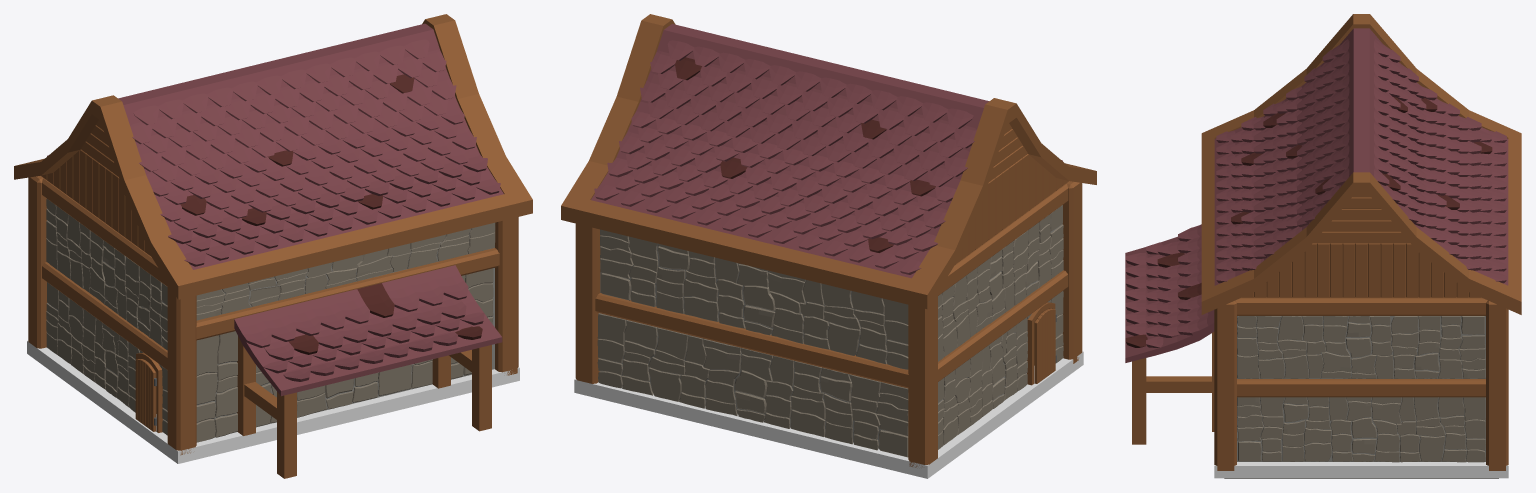
The model's file is House.fbx.
The picture shows the model from 3 angles, left to right: view 1: azimuth 30°, elevation 25°; view 2: azimuth 150°, elevation 25°; view 3: azimuth 270°, elevation 25°; orthographic projection. The views are drawn at different scales.
Visible parts, largest first — view 1: Roof.002, Roof.001, Cube.001, Roof.003, Cube.002, Plane.007, Plane, Plane.004, Plane.009, Plane.001, Roof, Plane.017 (+2 smaller); view 2: Roof.002, Roof.001, Cube.001, Plane.007, Plane.008, Plane, Plane.004, Plane.001, Roof, Plane.003, Plane.017, Plane.016; view 3: Roof.002, Roof.001, Cube.001, Plane.006, Plane.005, Roof, Roof.003, Plane, Cube.002, Plane.003.
Part boxes in pixels (x1,y1,x2,y2): Roof.002: [47, 39, 500, 266]; Roof.001: [14, 14, 532, 299]; Cube.001: [28, 176, 518, 455]; Roof.003: [234, 265, 484, 381]; Cube.002: [234, 289, 502, 478]; Plane.007: [196, 268, 493, 442]; Plane: [27, 340, 519, 463]; Plane.004: [46, 199, 167, 350]; Plane.009: [196, 222, 495, 320]; Plane.001: [46, 282, 167, 435]; Roof: [41, 120, 151, 256]; Plane.017: [135, 359, 156, 431]; Roof.002: [594, 40, 1062, 274]; Roof.001: [561, 14, 1096, 309]; Cube.001: [575, 181, 1082, 467]; Plane.007: [597, 313, 908, 457]; Plane.008: [600, 229, 908, 369]; Plane: [574, 351, 1083, 478]; Plane.004: [938, 205, 1063, 361]; Plane.001: [938, 291, 1063, 449]; Roof: [955, 123, 1068, 264]; Plane.003: [600, 223, 1062, 448]; Plane.017: [1034, 308, 1056, 383]; Plane.016: [1027, 302, 1055, 385]; Roof.002: [1216, 39, 1506, 283]; Roof.001: [1201, 14, 1521, 314]; Cube.001: [1214, 297, 1508, 470]; Plane.006: [1237, 397, 1485, 462]; Plane.005: [1237, 316, 1485, 378]; Roof: [1242, 196, 1480, 297]; Roof.003: [1125, 224, 1214, 350]; Plane: [1214, 462, 1508, 478]; Cube.002: [1125, 236, 1214, 444]; Plane.003: [1224, 316, 1498, 478].
Bounding box in the file's own units: 881 × 740 × 875.
